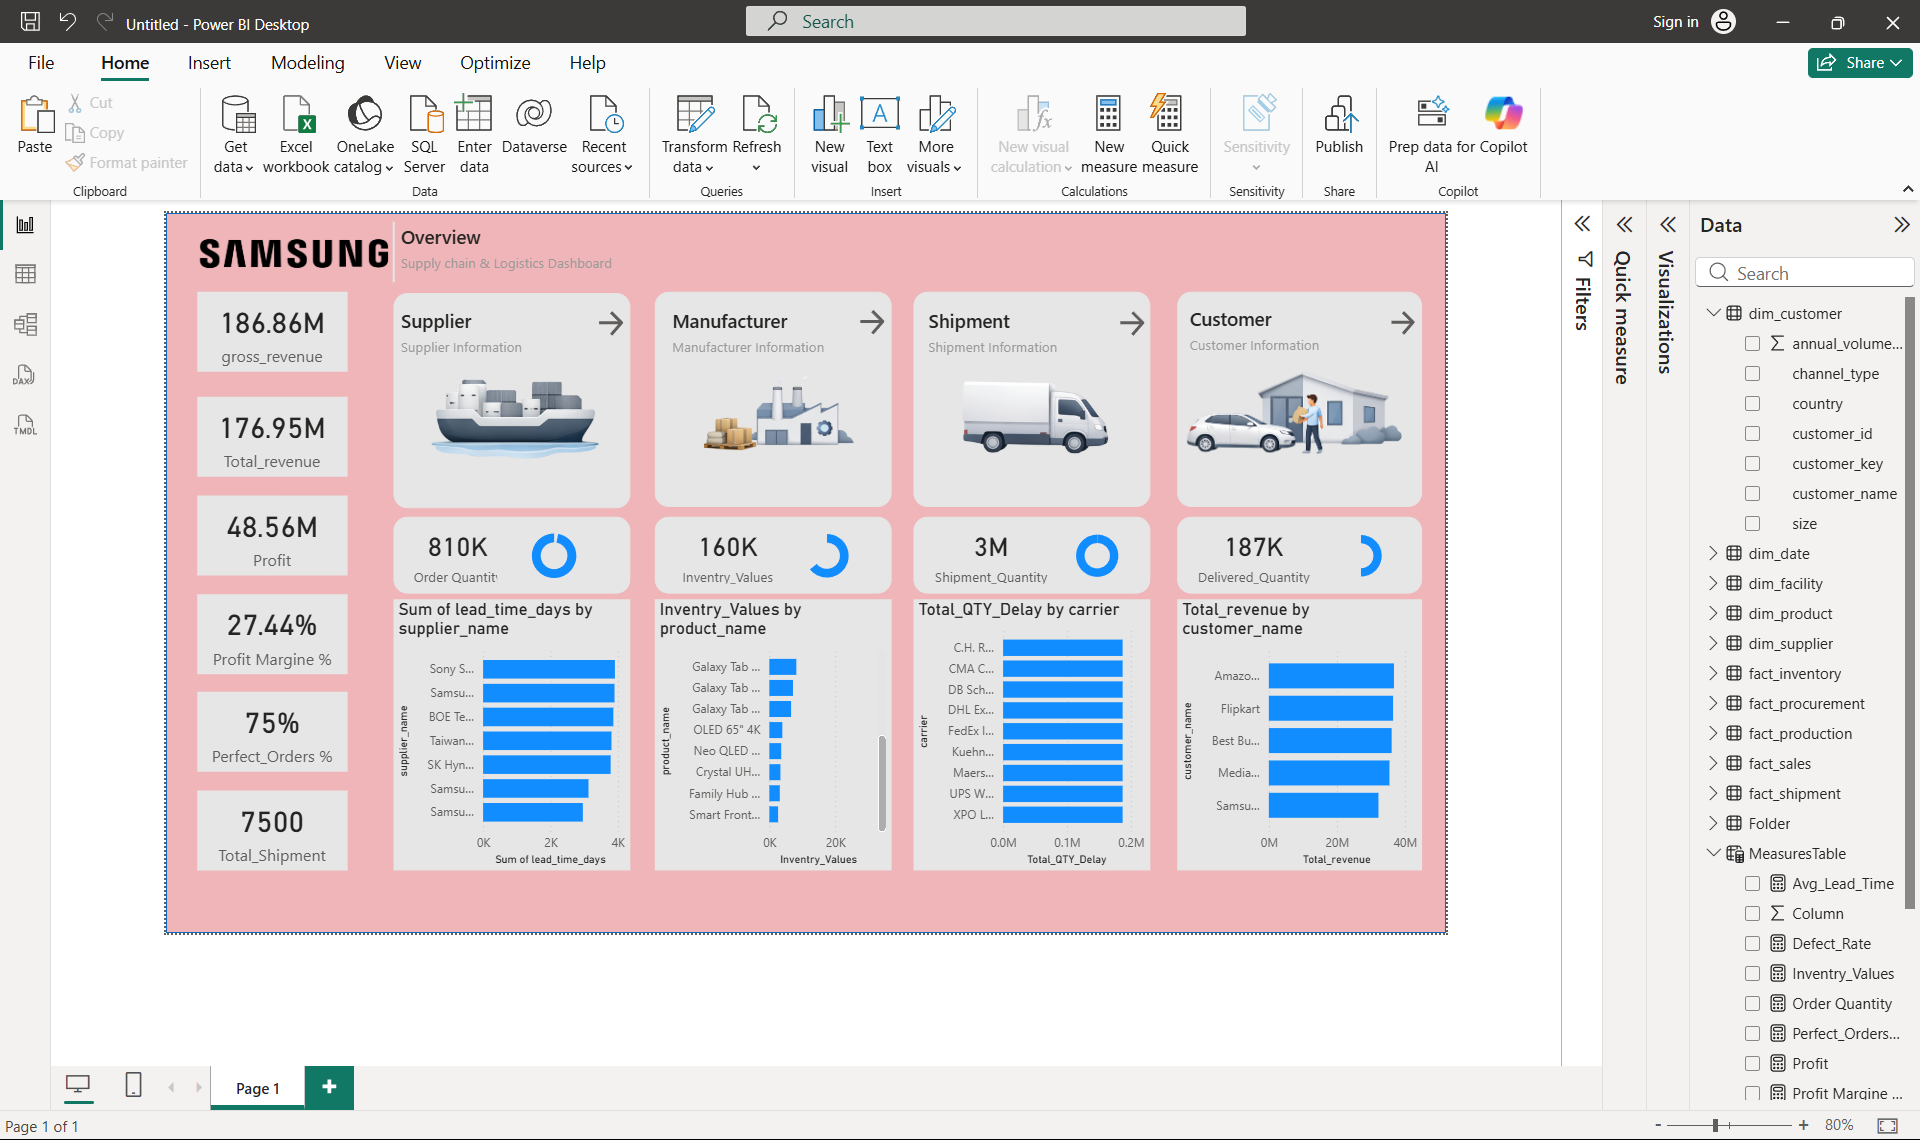

What the dashboard file says about the page in this screenshot:
{"tool":"powerbi","page":{"name":"Page 1","canvas":[1280,720],"ordinal":0},"visuals":[{"type":"shape","box":[226.9,80.5,236.5,214.9],"z":1000},{"type":"shape","box":[1011,79.2,245,214.9],"z":2000},{"type":"shape","box":[748.1,79.2,236.5,214.9],"z":3000},{"type":"shape","box":[488.7,79.2,236.5,214.9],"z":4000},{"type":"image","box":[505.5,142.9,205.3,108.1],"z":5000},{"type":"image","box":[761.3,145.3,211.3,105.7],"z":6000},{"type":"image","box":[1011,142.9,245,108.1],"z":7000},{"type":"image","box":[235.3,142.9,219.7,108.1],"z":8000},{"type":"actionButton","box":[1219.8,94.2,36,32.6],"z":9000},{"type":"actionButton","box":[948.6,93.7,36,33.6],"z":10000},{"type":"actionButton","box":[689.2,92.5,36,33.6],"z":11000},{"type":"actionButton","box":[427.5,93.7,36,33.6],"z":12000},{"type":"shape","title":"Supplier","box":[234.9,95.3,155.8,58.1],"z":13000},{"type":"shape","title":"Customer","box":[1024.2,92.5,156.1,58.8],"z":14000},{"type":"shape","title":"Shipment","box":[762.5,94.9,156.1,58.8],"z":15000},{"type":"shape","title":"Manufacturer","box":[505.8,95.3,155.8,58.1],"z":16000},{"type":"shape","title":"Overview","box":[234.9,11.6,227.9,58.1],"z":17000},{"type":"shape","box":[214,9.3,27.9,60.5],"z":18000},{"type":"image","box":[18.6,11.6,209.3,58.1],"z":19000},{"type":"card","fields":{"Values":["MeasuresTable.total_revenue"]},"box":[31,183.7,150,80],"z":20000},{"type":"card","fields":{"Values":["MeasuresTable.Profit"]},"box":[31,282.2,150,80],"z":21000},{"type":"card","fields":{"Values":["MeasuresTable.Profit Margine %","select"]},"box":[31,380.6,150,80],"z":22000},{"type":"card","fields":{"Values":["MeasuresTable.Perfect_Orders %"]},"box":[31,479.1,150,80],"z":23000},{"type":"card","fields":{"Values":["MeasuresTable.Total_Shipment"]},"box":[31,577.6,150,80],"z":24000},{"type":"card","fields":{"Values":["Sum(fact_sales.gross_revenue)"]},"box":[31,79.2,150,80],"z":25000},{"type":"shape","box":[226.9,303.8,236.5,76.8],"z":26000},{"type":"shape","box":[748.1,303.8,236.5,76.8],"z":27000},{"type":"shape","box":[1011,303.8,245,76.8],"z":28000},{"type":"shape","box":[488.7,303.8,236.5,76.8],"z":29000},{"type":"card","fields":{"Values":["MeasuresTable.Order Quantity"]},"box":[235.3,307,114.1,68.4],"z":30000},{"type":"card","fields":{"Values":["MeasuresTable.Inventry_Values"]},"box":[505.5,307,114.1,68.4],"z":31000},{"type":"card","fields":{"Values":["MeasuresTable.Total_Shipment_Quantity"]},"box":[761.3,307.4,128.5,68.4],"z":32000},{"type":"card","fields":{"Values":["MeasuresTable.Total_Delivered_Quantity"]},"box":[1024.2,307.4,128.5,68.4],"z":33000},{"type":"clusteredBarChart","fields":{"Category":["dim_supplier.supplier_name"],"Y":["Sum(fact_procurement.lead_time_days)"]},"box":[226.9,386.6,236.5,271.4],"z":34000},{"type":"clusteredBarChart","fields":{"Category":["dim_product.product_name"],"Y":["MeasuresTable.Inventry_Values"]},"box":[488.7,386.6,236.5,271.4],"z":35000},{"type":"clusteredBarChart","fields":{"Category":["fact_shipment.carrier"],"Y":["MeasuresTable.Total_Delay"]},"box":[748.1,386.6,236.5,271.4],"z":36000},{"type":"clusteredBarChart","fields":{"Category":["dim_customer.customer_name"],"Y":["MeasuresTable.Total_revenue"]},"box":[1011,386.6,245,271.4],"z":37000},{"type":"donutChart","fields":{"Y":["MeasuresTable.Inventry_Values","MeasuresTable.saftey_stock"]},"box":[611.2,308.6,99.7,68.4],"z":38000},{"type":"donutChart","fields":{"Y":["MeasuresTable.Total_Shipment","MeasuresTable.Total_Shipment_Quantity"]},"box":[889.8,307.4,82.9,70.8],"z":39000},{"type":"donutChart","fields":{"Y":["MeasuresTable.Total_Delivered_Quantity","MeasuresTable.Total_QTY_Delay"]},"box":[1152.7,308.6,85.3,68.4],"z":40000},{"type":"donutChart","fields":{"Y":["MeasuresTable.Defect_Rate","MeasuresTable.Order Quantity"]},"box":[331.4,308.6,114.1,68.4],"z":41000}]}

Visuals, with their boxes on the page's 1280x720 design canvas (x1, y1, x2, y2). These are canvas units, not pixel positions in the 1920x1140 screenshot, which may show the page scaled, cropped or inside an application window:
shape: {"left": 227, "top": 80, "right": 463, "bottom": 295}
shape: {"left": 1011, "top": 79, "right": 1256, "bottom": 294}
shape: {"left": 748, "top": 79, "right": 985, "bottom": 294}
shape: {"left": 489, "top": 79, "right": 725, "bottom": 294}
image: {"left": 506, "top": 143, "right": 711, "bottom": 251}
image: {"left": 761, "top": 145, "right": 973, "bottom": 251}
image: {"left": 1011, "top": 143, "right": 1256, "bottom": 251}
image: {"left": 235, "top": 143, "right": 455, "bottom": 251}
actionButton: {"left": 1220, "top": 94, "right": 1256, "bottom": 127}
actionButton: {"left": 949, "top": 94, "right": 985, "bottom": 127}
actionButton: {"left": 689, "top": 92, "right": 725, "bottom": 126}
actionButton: {"left": 428, "top": 94, "right": 464, "bottom": 127}
"Supplier" shape: {"left": 235, "top": 95, "right": 391, "bottom": 153}
"Customer" shape: {"left": 1024, "top": 92, "right": 1180, "bottom": 151}
"Shipment" shape: {"left": 762, "top": 95, "right": 919, "bottom": 154}
"Manufacturer" shape: {"left": 506, "top": 95, "right": 662, "bottom": 153}
"Overview" shape: {"left": 235, "top": 12, "right": 463, "bottom": 70}
shape: {"left": 214, "top": 9, "right": 242, "bottom": 70}
image: {"left": 19, "top": 12, "right": 228, "bottom": 70}
card - MeasuresTable.total_revenue: {"left": 31, "top": 184, "right": 181, "bottom": 264}
card - MeasuresTable.Profit: {"left": 31, "top": 282, "right": 181, "bottom": 362}
card - MeasuresTable.Profit Margine % x select: {"left": 31, "top": 381, "right": 181, "bottom": 461}
card - MeasuresTable.Perfect_Orders %: {"left": 31, "top": 479, "right": 181, "bottom": 559}
card - MeasuresTable.Total_Shipment: {"left": 31, "top": 578, "right": 181, "bottom": 658}
card - Sum(fact_sales.gross_revenue): {"left": 31, "top": 79, "right": 181, "bottom": 159}
shape: {"left": 227, "top": 304, "right": 463, "bottom": 381}
shape: {"left": 748, "top": 304, "right": 985, "bottom": 381}
shape: {"left": 1011, "top": 304, "right": 1256, "bottom": 381}
shape: {"left": 489, "top": 304, "right": 725, "bottom": 381}
card - MeasuresTable.Order Quantity: {"left": 235, "top": 307, "right": 349, "bottom": 375}
card - MeasuresTable.Inventry_Values: {"left": 506, "top": 307, "right": 620, "bottom": 375}
card - MeasuresTable.Total_Shipment_Quantity: {"left": 761, "top": 307, "right": 890, "bottom": 376}
card - MeasuresTable.Total_Delivered_Quantity: {"left": 1024, "top": 307, "right": 1153, "bottom": 376}
clusteredBarChart - dim_supplier.supplier_name x Sum(fact_procurement.lead_time_days): {"left": 227, "top": 387, "right": 463, "bottom": 658}
clusteredBarChart - dim_product.product_name x MeasuresTable.Inventry_Values: {"left": 489, "top": 387, "right": 725, "bottom": 658}
clusteredBarChart - fact_shipment.carrier x MeasuresTable.Total_Delay: {"left": 748, "top": 387, "right": 985, "bottom": 658}
clusteredBarChart - dim_customer.customer_name x MeasuresTable.Total_revenue: {"left": 1011, "top": 387, "right": 1256, "bottom": 658}
donutChart - MeasuresTable.Inventry_Values x MeasuresTable.saftey_stock: {"left": 611, "top": 309, "right": 711, "bottom": 377}
donutChart - MeasuresTable.Total_Shipment x MeasuresTable.Total_Shipment_Quantity: {"left": 890, "top": 307, "right": 973, "bottom": 378}
donutChart - MeasuresTable.Total_Delivered_Quantity x MeasuresTable.Total_QTY_Delay: {"left": 1153, "top": 309, "right": 1238, "bottom": 377}
donutChart - MeasuresTable.Defect_Rate x MeasuresTable.Order Quantity: {"left": 331, "top": 309, "right": 446, "bottom": 377}
